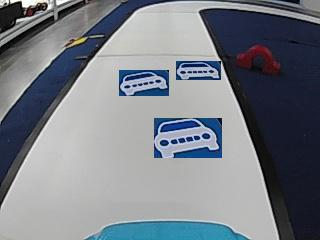bridge: (239, 44, 279, 73)
